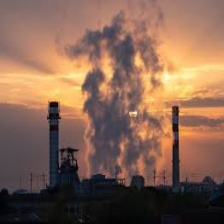smoke: (67, 32, 162, 172)
